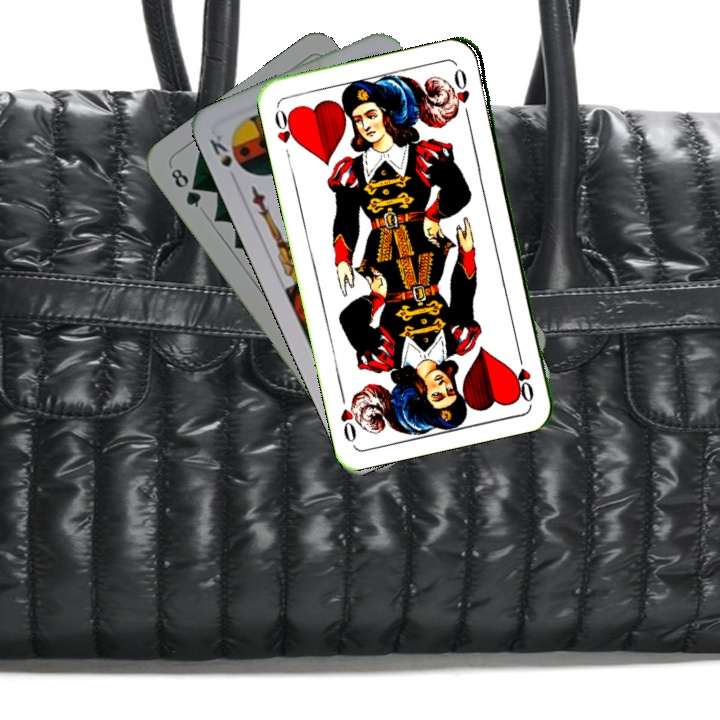G8: (166, 164, 204, 211)
HO: (270, 103, 301, 161), (513, 346, 537, 405)
SK: (205, 130, 247, 177)
